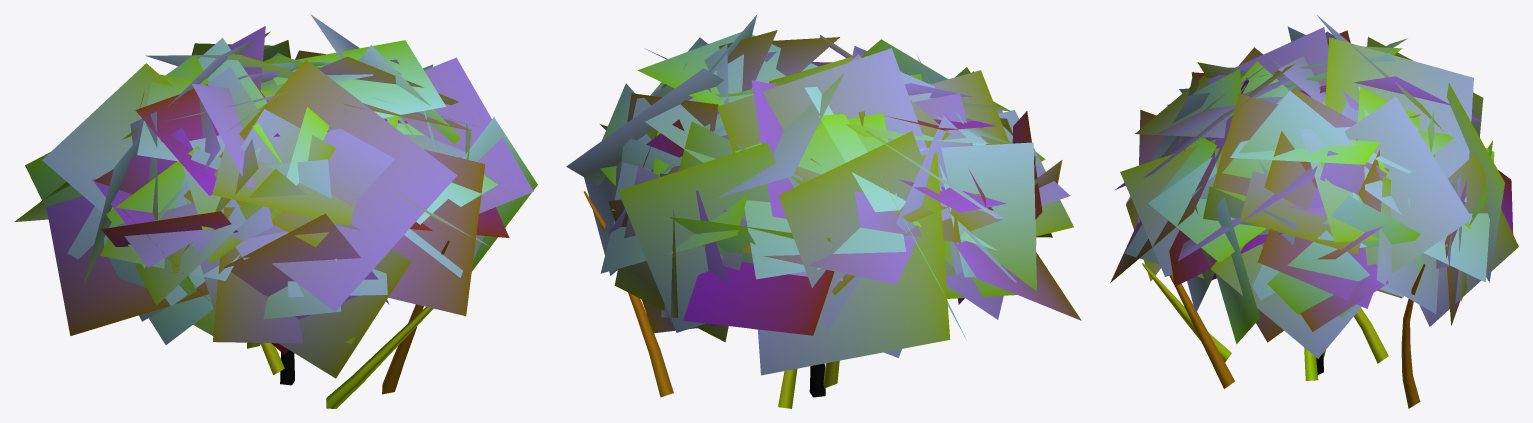
The model's file is tree_azalea_a_bloom.glb.
3 views of the same model, side by side, from view 1: azimuth 30°, elevation 25°; view 2: azimuth 150°, elevation 25°; view 3: azimuth 270°, elevation 25° (orthographic). The views are drawn at different scales.
Parts seen in each view (by area): view 1: tree_azalea_a_bloom; view 2: tree_azalea_a_bloom; view 3: tree_azalea_a_bloom.
Part boxes in pixels (x1,y1,x2,y2): tree_azalea_a_bloom: [14, 14, 537, 408]; tree_azalea_a_bloom: [566, 14, 1081, 408]; tree_azalea_a_bloom: [1110, 15, 1518, 408].
Size of the model in its own units: 1.82 by 1.31 by 1.49.
